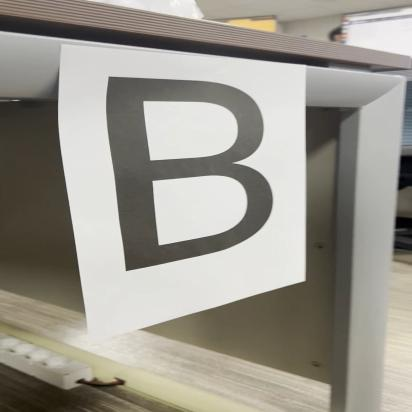seat: (88, 64, 280, 279)
